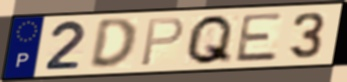2: (43, 18, 88, 73)
3: (287, 11, 330, 60)
D: (87, 16, 139, 71)
E: (233, 11, 286, 64)
P: (138, 16, 186, 69)
Q: (183, 13, 236, 67)
